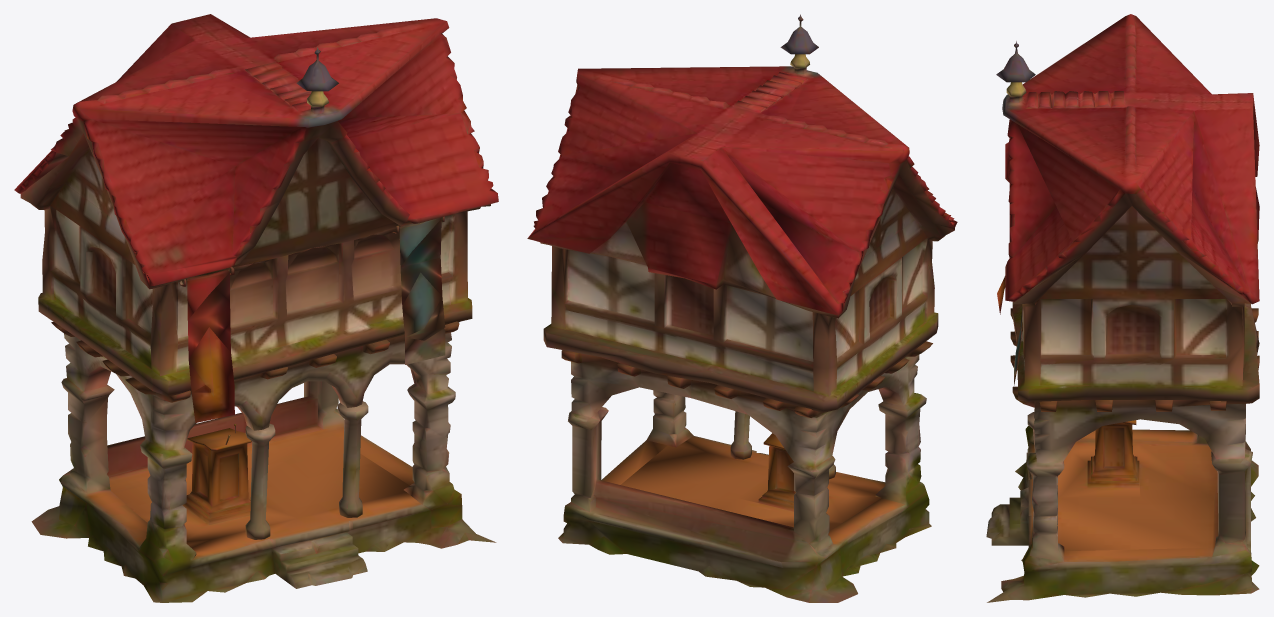
The model's file is civic_auction_house.glb.
The picture shows the model from 3 angles, left to right: view 1: azimuth 30°, elevation 25°; view 2: azimuth 150°, elevation 25°; view 3: azimuth 270°, elevation 25°; orthographic projection. The views are drawn at different scales.
Parts seen in each view (by area): view 1: tripo_node_e58b5553-6feb-4c08-88b9-f5ee8ba54804; view 2: tripo_node_e58b5553-6feb-4c08-88b9-f5ee8ba54804; view 3: tripo_node_e58b5553-6feb-4c08-88b9-f5ee8ba54804.
Boxes of the visible parts, left/top/right/bottom form: tripo_node_e58b5553-6feb-4c08-88b9-f5ee8ba54804: left=14, top=14, right=498, bottom=602; tripo_node_e58b5553-6feb-4c08-88b9-f5ee8ba54804: left=527, top=14, right=957, bottom=602; tripo_node_e58b5553-6feb-4c08-88b9-f5ee8ba54804: left=986, top=14, right=1259, bottom=602.
Bounding box in the file's own units: 8.07 × 11 × 5.58.
1 material, 1 textured.
